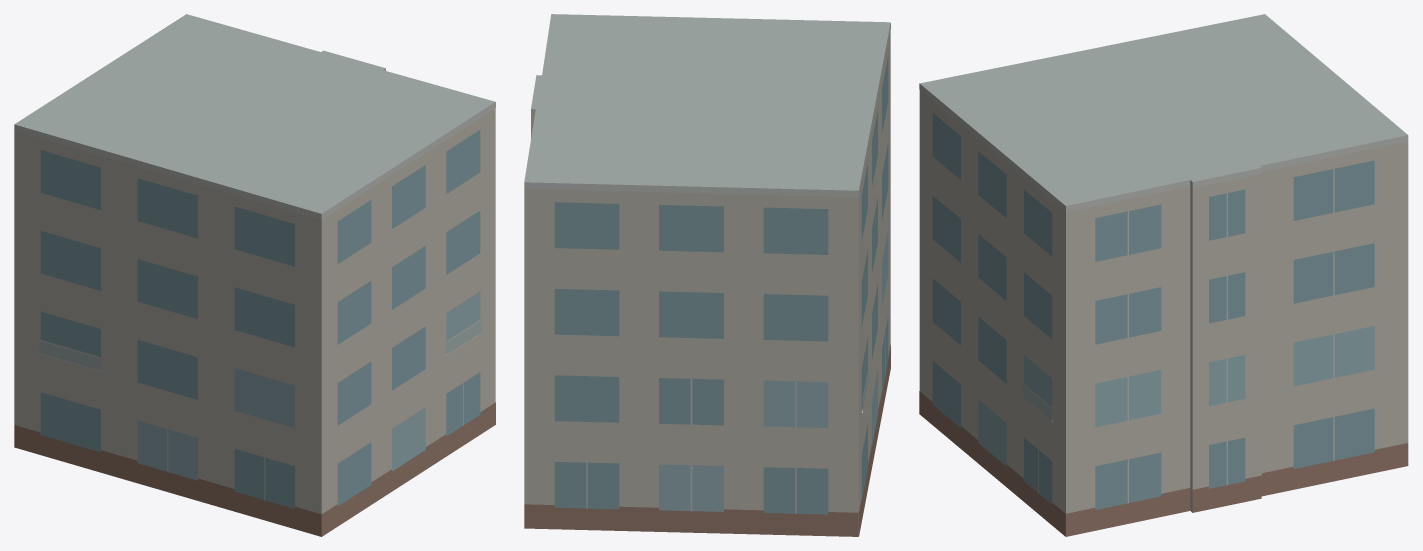
The model's file is survey-upis-32738552.glb.
3 views of the same model, side by side, from view 1: azimuth 30°, elevation 25°; view 2: azimuth 150°, elevation 25°; view 3: azimuth 270°, elevation 25° (orthographic). The views are drawn at different scales.
Parts seen in each view (by area): view 1: survey-upis-32738552.tmp; view 2: survey-upis-32738552.tmp; view 3: survey-upis-32738552.tmp.
Boxes of the visible parts, x1=… form: survey-upis-32738552.tmp: x1=14, y1=14, x2=495, y2=536; survey-upis-32738552.tmp: x1=524, y1=14, x2=890, y2=536; survey-upis-32738552.tmp: x1=919, y1=14, x2=1408, y2=536.
Size of the model in its own units: 15.88 by 12.75 by 17.08.
